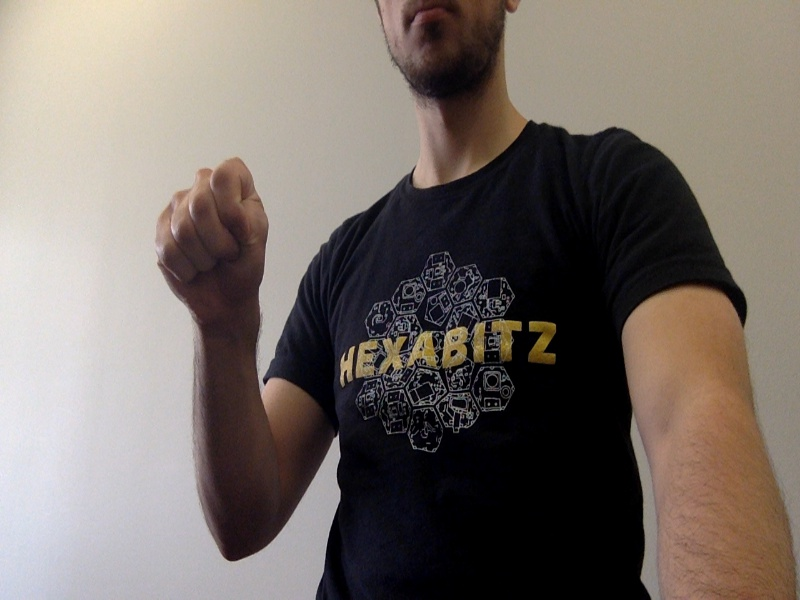0-hand: (154, 157, 268, 327)
